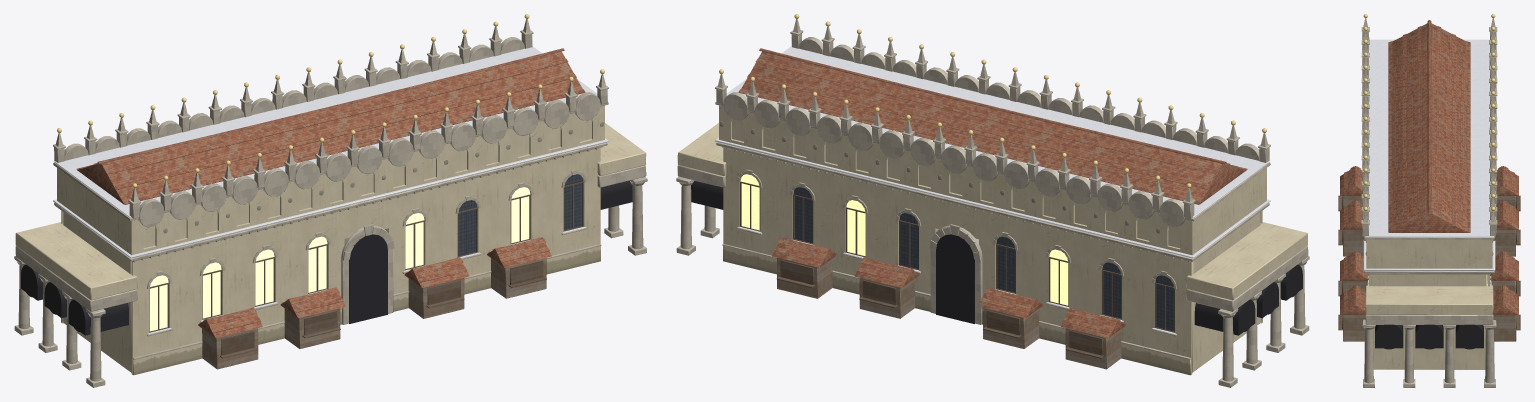
File: sukiennice.glb
3 views of the same model, side by side, from view 1: azimuth 30°, elevation 25°; view 2: azimuth 150°, elevation 25°; view 3: azimuth 270°, elevation 25° (orthographic). The views are drawn at different scales.
Parts seen in each view (by area): view 1: sukiennice; view 2: sukiennice; view 3: sukiennice.
Part boxes in pixels (x1,y1,x2,y2): sukiennice: [14, 14, 647, 387]; sukiennice: [676, 14, 1309, 387]; sukiennice: [1338, 14, 1520, 387].
Size of what is drawn, in the model's own units: 40.42 by 13.41 by 13.6.
Materials: 12 (10 with a texture image).
